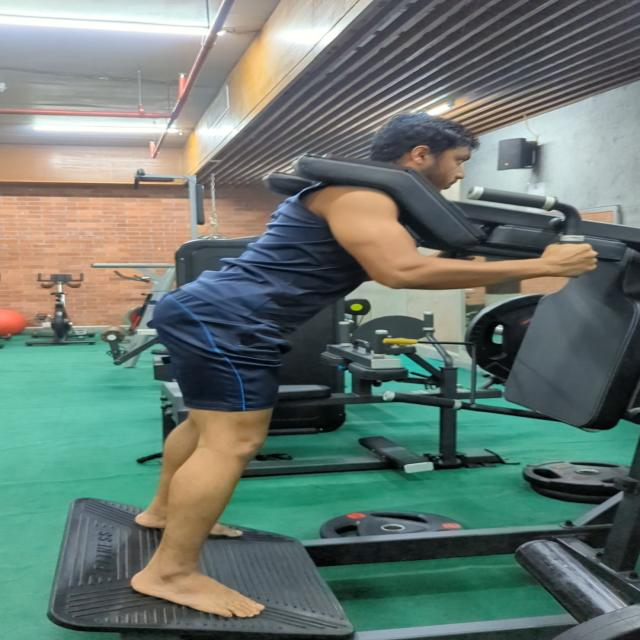Normal_SquatsWithBarbell: (145, 97, 594, 640)
